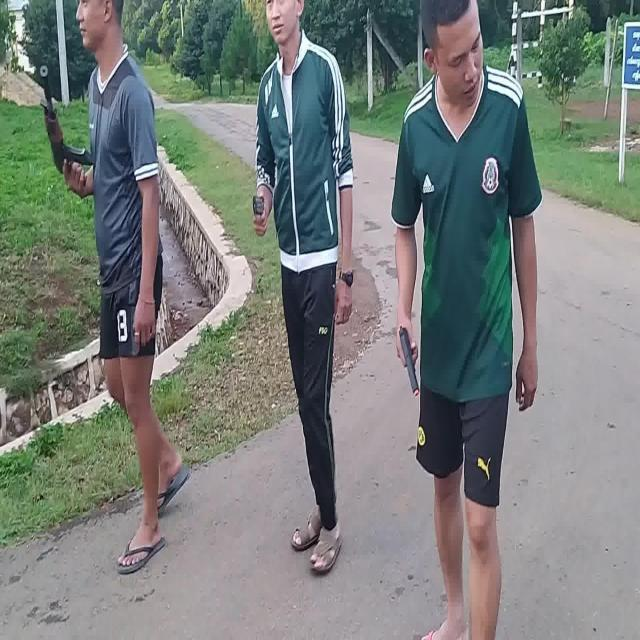gun: (40, 67, 93, 185), (398, 326, 419, 394)
